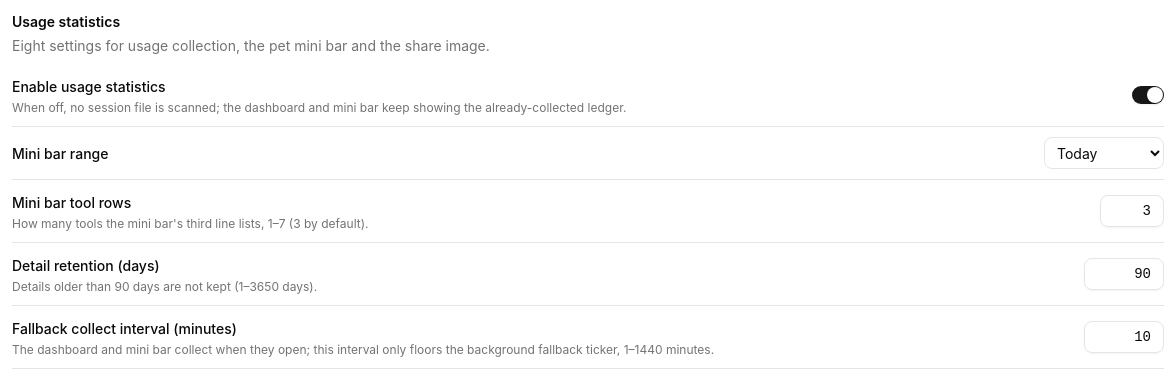
Test case: 设置页「用量统计」分组（计划② Task 14） › 3. 数字输入：非数字被过滤掉，剩下的数字即时保存
Replace the text in the field with test id "usage-detail-retention-days" with "3a0b" at coordinates (1124, 274), box [1084, 258, 1164, 290]
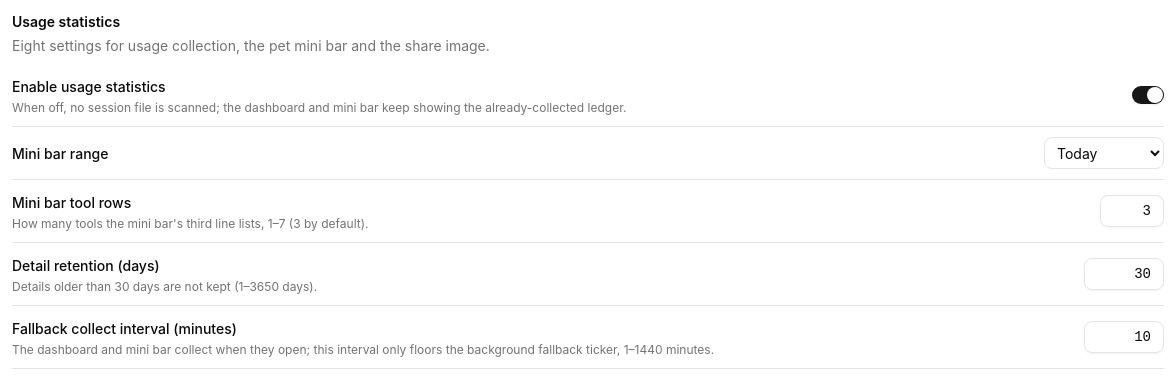
expect the field with test id "usage-detail-retention-days" holds "30": met, box [1084, 258, 1164, 290]
